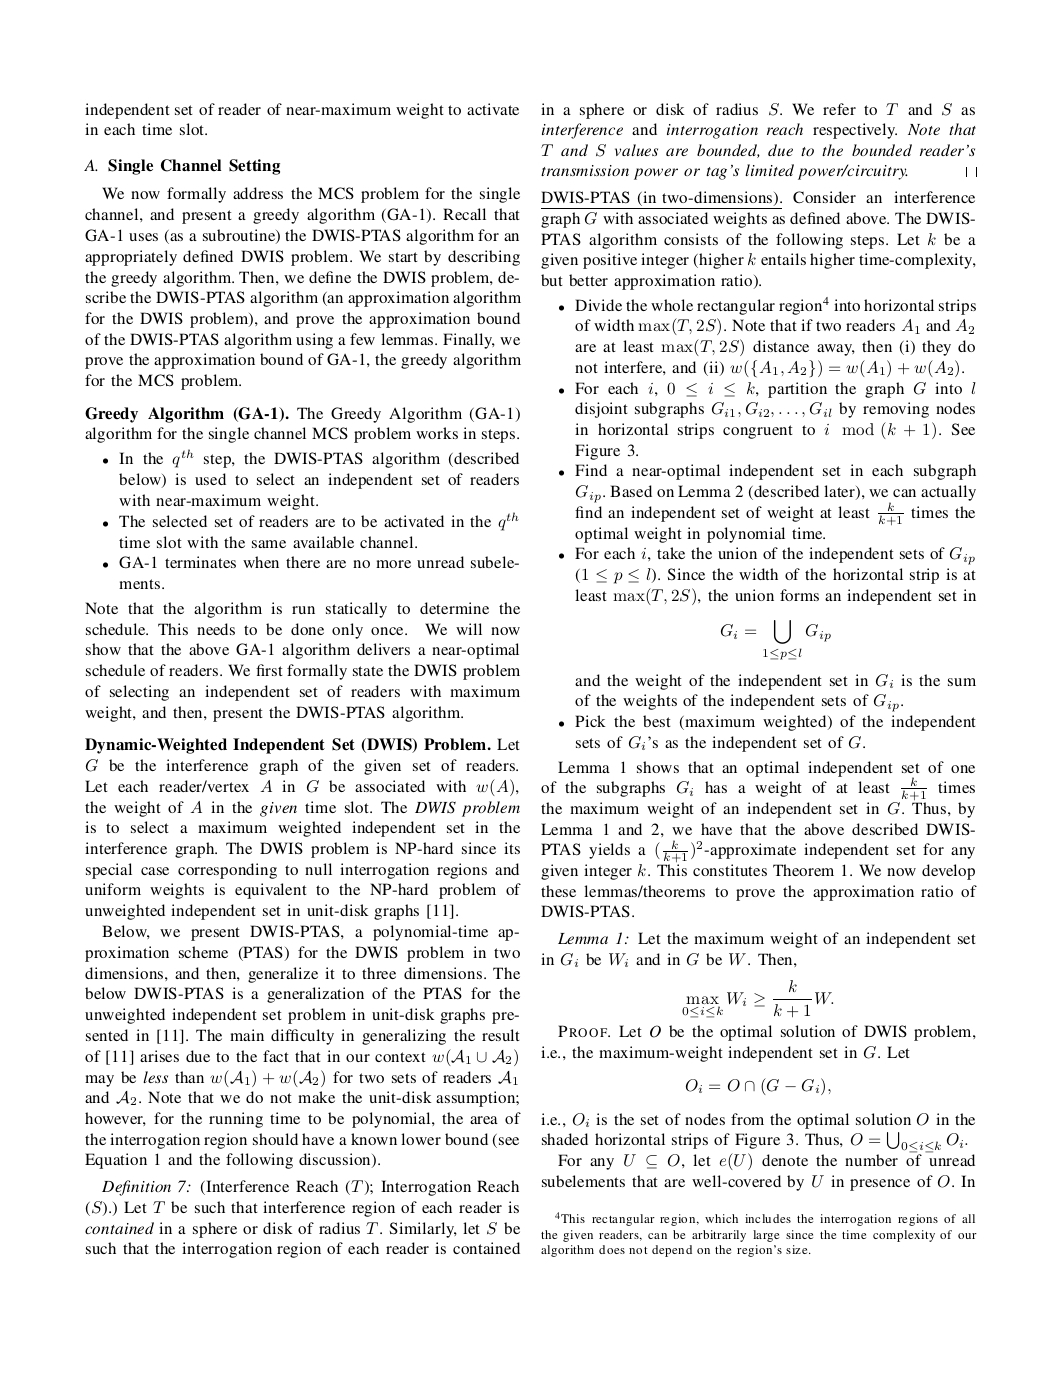formula: (682, 978, 833, 1017), (720, 620, 830, 659), (685, 1077, 830, 1096)
